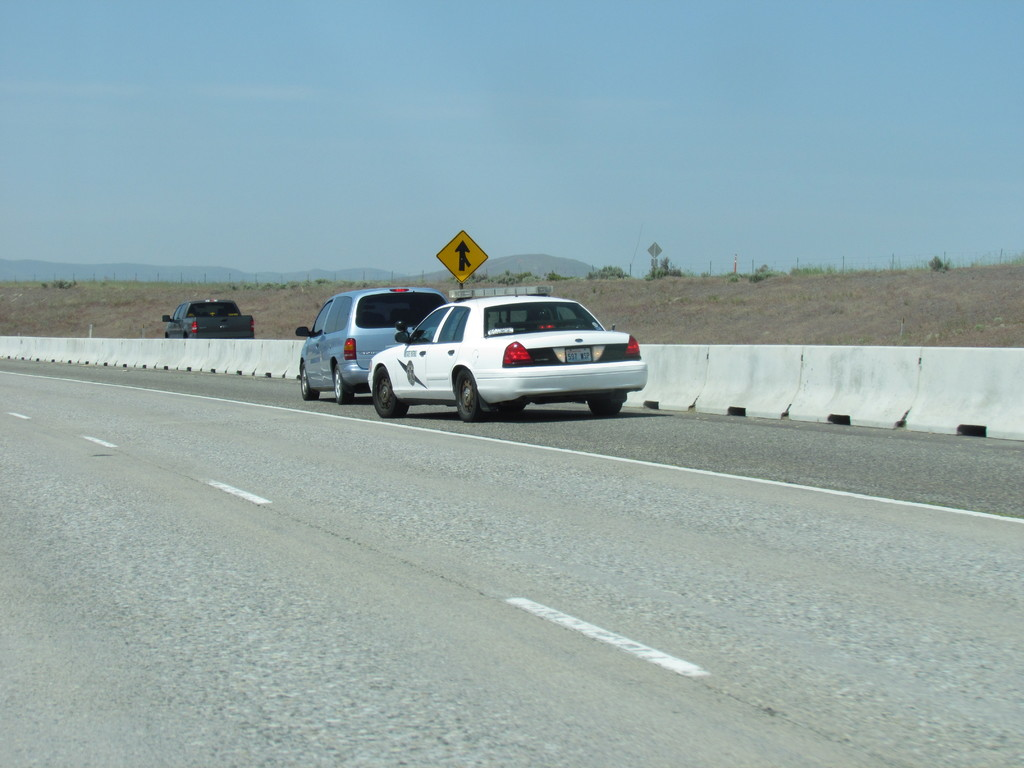Car: (371, 291, 643, 418), (296, 289, 440, 401)
